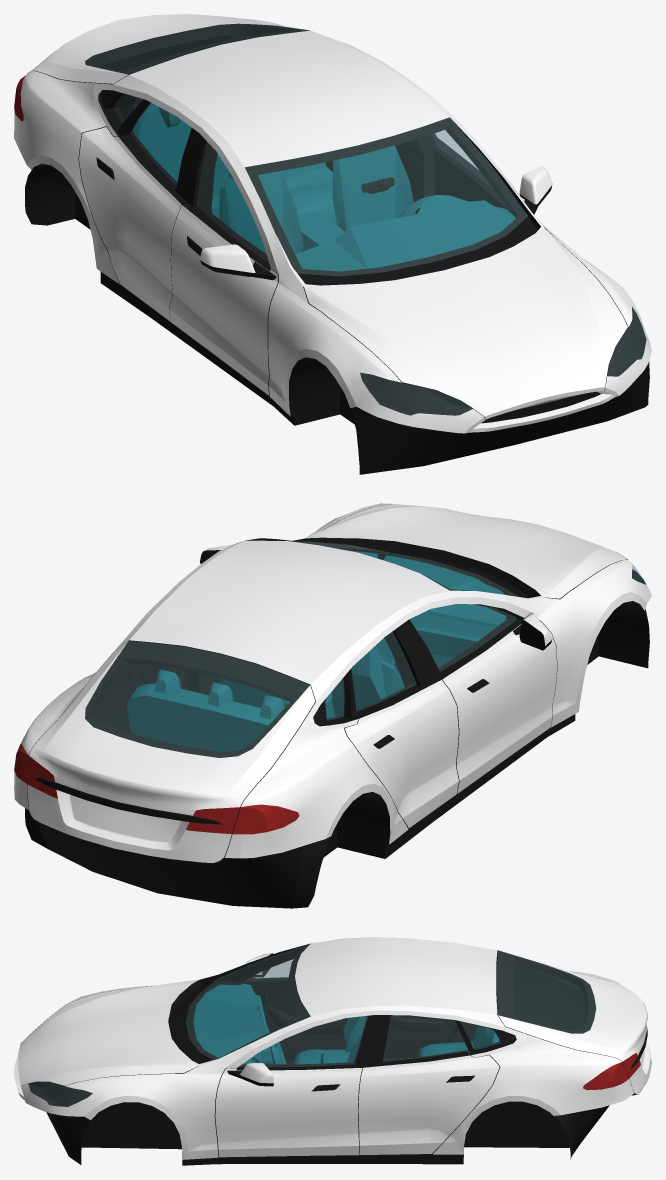
Rendered from Electric_1.FBX.
3 renders of one model, top to bottom at view 1: azimuth 30°, elevation 25°; view 2: azimuth 150°, elevation 25°; view 3: azimuth 270°, elevation 25°, orthographic. The views are drawn at different scales.
Parts seen in each view (by area): view 1: Elecric_1, Elecric_1_Hood, Elecric_1_Roof, Electric_1_Window_F, Electric_1_Dashboard, Elecric_1_Door_FR, Elecric_1_Door_RR, Elecric_1_Trunk, Electric_1_Window_B, Elecric_1_Door_FL, Electric_1_Window_FR, Electric_1_Window_MR (+3 smaller); view 2: Elecric_1, Elecric_1_Trunk, Elecric_1_Roof, Electric_1_Window_B, Electric_1_Dashboard, Elecric_1_Door_FR, Elecric_1_Hood, Elecric_1_Door_RR, Electric_1_Window_FR, Electric_1_Window_MR, Electric_1_Window_F, Elecric_1_Door_RL; view 3: Elecric_1, Elecric_1_Roof, Elecric_1_Door_FL, Elecric_1_Hood, Elecric_1_Door_RL, Elecric_1_Trunk, Electric_1_Window_F, Electric_1_Dashboard, Electric_1_Window_B, Electric_1_Window_FL, Elecric_1_Door_FR, Electric_1_Window_ML (+4 smaller).
Part boxes in pixels (<box>): Elecric_1: <box>14,19,651,474</box>; Elecric_1_Hood: <box>304,228,627,419</box>; Elecric_1_Roof: <box>112,30,507,237</box>; Electric_1_Window_F: <box>245,117,527,275</box>; Electric_1_Dashboard: <box>132,103,515,271</box>; Elecric_1_Door_FR: <box>169,202,278,395</box>; Elecric_1_Door_RR: <box>79,127,186,321</box>; Elecric_1_Trunk: <box>31,14,309,83</box>; Electric_1_Window_B: <box>85,24,307,74</box>; Elecric_1_Door_FL: <box>433,141,552,214</box>; Electric_1_Window_FR: <box>197,142,268,262</box>; Electric_1_Window_MR: <box>130,102,191,185</box>; Elecric_1: <box>14,503,651,908</box>; Elecric_1_Trunk: <box>27,641,315,862</box>; Elecric_1_Roof: <box>114,538,507,719</box>; Electric_1_Window_B: <box>85,641,309,757</box>; Electric_1_Dashboard: <box>126,550,507,751</box>; Elecric_1_Door_FR: <box>436,613,556,793</box>; Elecric_1_Hood: <box>304,504,627,598</box>; Elecric_1_Door_RR: <box>345,678,458,827</box>; Electric_1_Window_FR: <box>410,604,516,671</box>; Electric_1_Window_MR: <box>351,631,416,711</box>; Electric_1_Window_F: <box>266,540,518,596</box>; Elecric_1_Door_RL: <box>84,664,188,690</box>; Elecric_1: <box>14,958,651,1165</box>; Elecric_1_Roof: <box>249,937,504,1056</box>; Elecric_1_Door_FL: <box>215,1062,362,1157</box>; Elecric_1_Hood: <box>18,980,197,1086</box>; Elecric_1_Door_RL: <box>358,1050,499,1154</box>; Elecric_1_Trunk: <box>496,950,651,1094</box>; Electric_1_Window_F: <box>186,944,310,1059</box>; Electric_1_Dashboard: <box>193,983,499,1064</box>; Electric_1_Window_B: <box>497,950,595,1033</box>; Electric_1_Window_FL: <box>239,1016,367,1066</box>; Elecric_1_Door_FR: <box>241,953,347,1060</box>; Electric_1_Window_ML: <box>383,1015,468,1061</box>.
Size of the model in its own units: 219 by 125 by 478.
